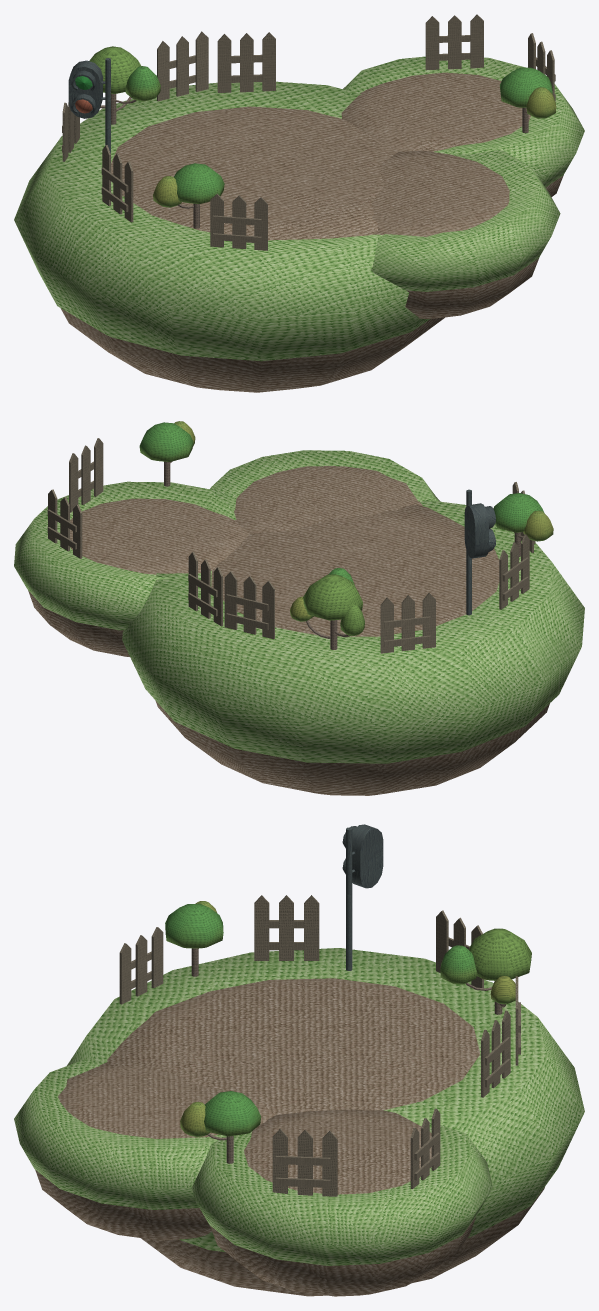
Rendered from bg_town.FBX.
The picture shows the model from 3 angles, top to bottom: view 1: azimuth 30°, elevation 25°; view 2: azimuth 150°, elevation 25°; view 3: azimuth 270°, elevation 25°; orthographic projection. The views are drawn at different scales.
Parts seen in each view (by area): view 1: land00, land01, town_tree; view 2: land00, land01, town_tree; view 3: land01, land00, town_tree.
Boxes of the visible parts, box(x1,y1,x2,y2) form: land00: box(14, 56, 584, 361); land01: box(60, 72, 563, 392); town_tree: box(62, 14, 556, 250); land00: box(14, 450, 584, 763); land01: box(28, 466, 549, 795); town_tree: box(47, 421, 553, 653); land01: box(35, 978, 544, 1296); land00: box(14, 948, 584, 1265); town_tree: box(119, 824, 531, 1196).
Bounding box in the file's own units: 4036 × 2385 × 3390.
